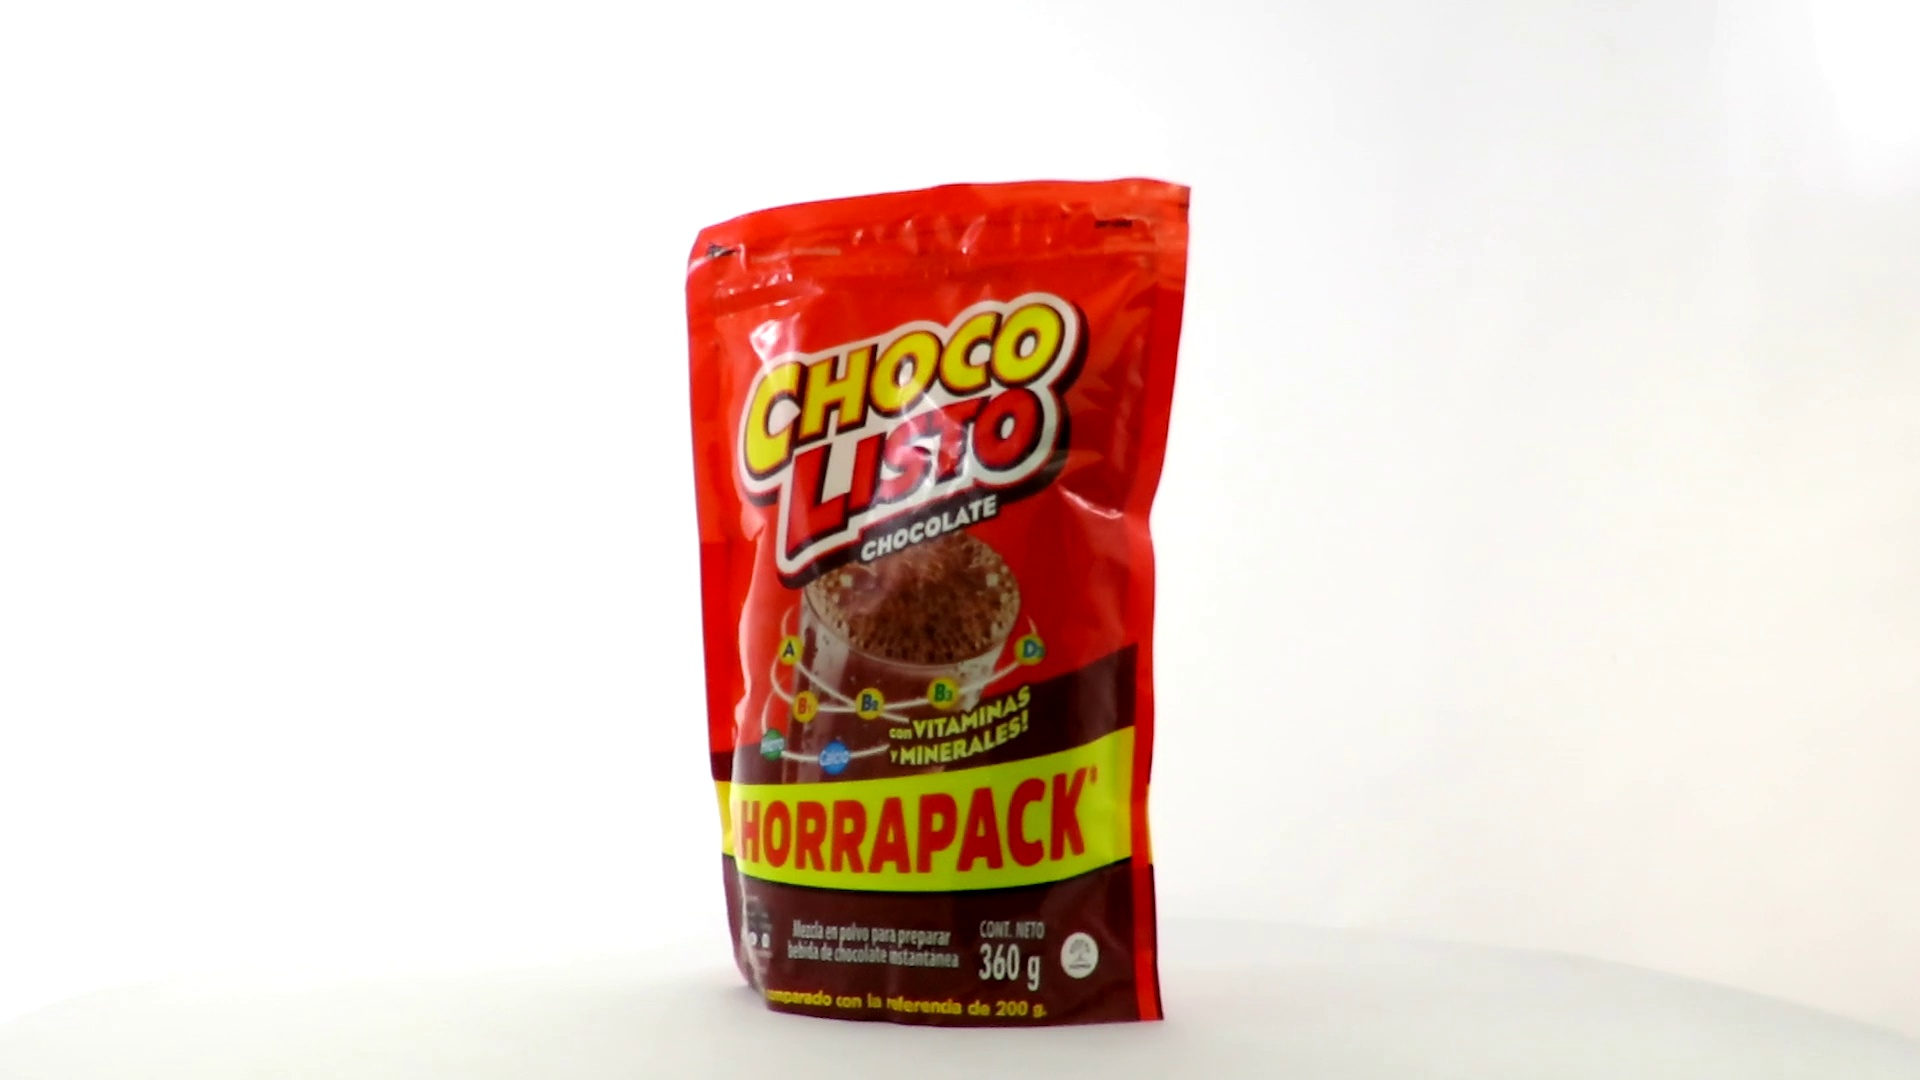COL0170103DYP36000: (680, 173, 1197, 1034)
